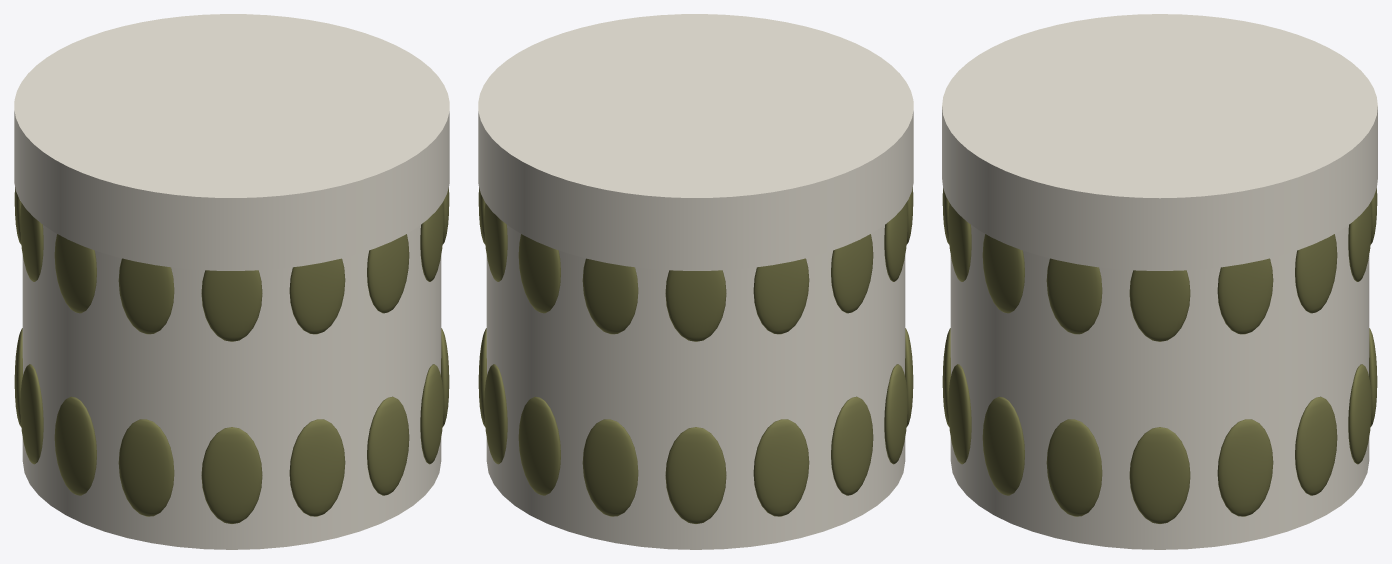
The model's file is wh-green-leaf-patterned-pouffe.glb.
The picture shows the model from 3 angles, left to right: view 1: azimuth 30°, elevation 25°; view 2: azimuth 150°, elevation 25°; view 3: azimuth 270°, elevation 25°; orthographic projection.
Parts seen in each view (by area): view 1: Pouffe upholstery.001, Leaf fabric motif.030; view 2: Pouffe upholstery.001, Leaf fabric motif.030; view 3: Pouffe upholstery.001, Leaf fabric motif.030.
Part boxes in pixels (x1,y1,x2,y2): Pouffe upholstery.001: [14, 14, 449, 549]; Leaf fabric motif.030: [14, 187, 449, 523]; Pouffe upholstery.001: [478, 14, 913, 549]; Leaf fabric motif.030: [478, 187, 913, 523]; Pouffe upholstery.001: [942, 14, 1377, 549]; Leaf fabric motif.030: [942, 188, 1377, 523].
Bounding box in the file's own units: 0.5 × 0.45 × 0.5.
